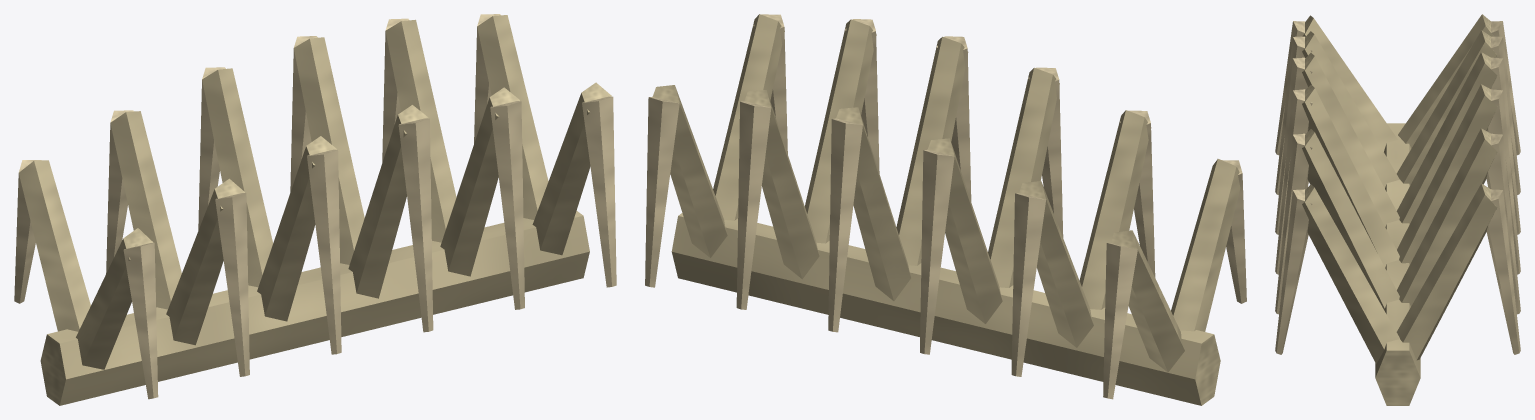
File: ribcage.fbx
The picture shows the model from 3 angles, left to right: view 1: azimuth 30°, elevation 25°; view 2: azimuth 150°, elevation 25°; view 3: azimuth 270°, elevation 25°; orthographic projection. The views are drawn at different scales.
Visible parts, largest first — view 1: ribcage; view 2: ribcage; view 3: ribcage.
Part boxes in pixels (x1,y1,x2,y2): ribcage: [14, 14, 616, 405]; ribcage: [645, 14, 1246, 405]; ribcage: [1275, 14, 1520, 405].
Bounding box in the file's own units: 140 × 65 × 64.
1 material, 1 textured.
